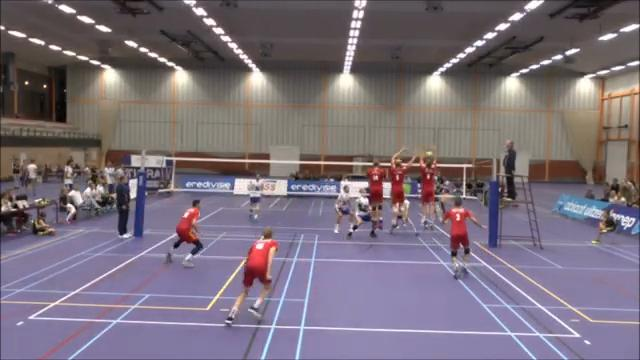Block: (356, 149, 389, 239), (386, 142, 416, 231), (415, 141, 442, 235)
Player: (225, 227, 277, 324), (442, 196, 485, 278), (165, 200, 202, 267), (347, 189, 372, 237), (334, 185, 354, 232), (247, 174, 262, 220), (396, 199, 409, 226)
ball: (424, 148, 433, 158)
